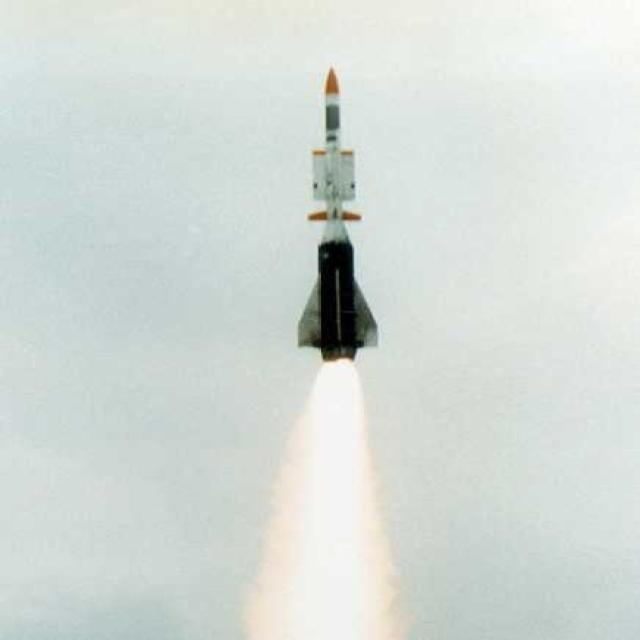missile: (286, 61, 376, 377)
